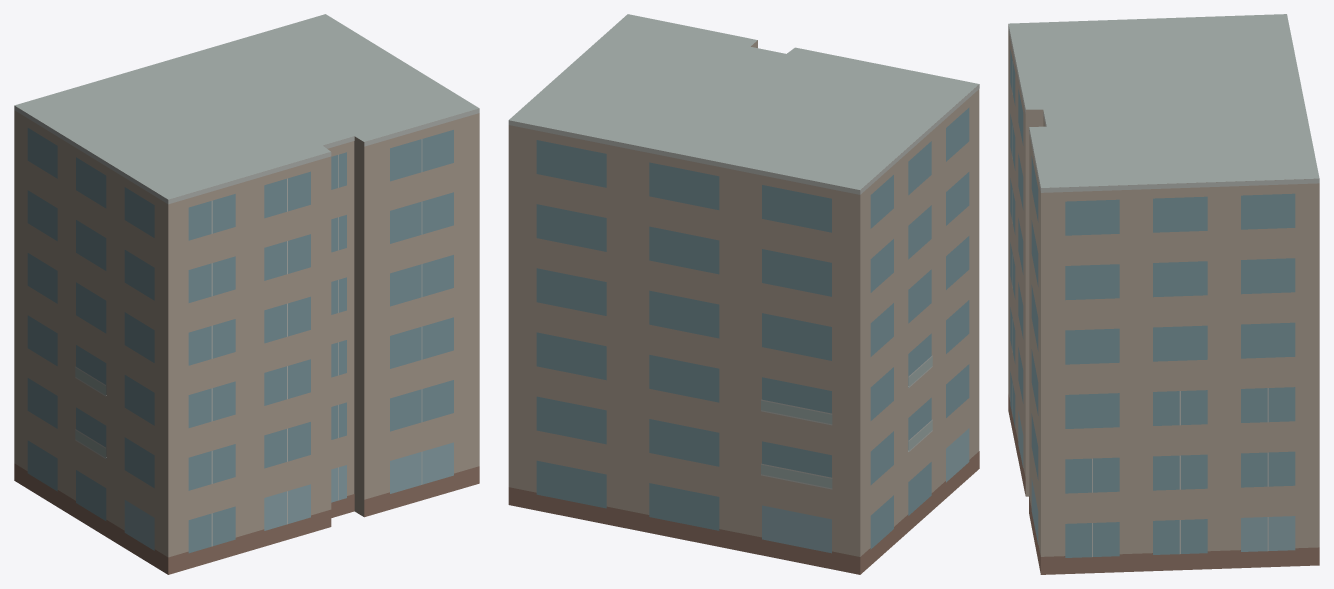
File: survey-upis-33038357.glb
The picture shows the model from 3 angles, left to right: view 1: azimuth 30°, elevation 25°; view 2: azimuth 150°, elevation 25°; view 3: azimuth 270°, elevation 25°; orthographic projection. The views are drawn at different scales.
Visible parts, largest first — view 1: survey-upis-33038357.tmp; view 2: survey-upis-33038357.tmp; view 3: survey-upis-33038357.tmp.
Boxes of the visible parts, <box> form: survey-upis-33038357.tmp: <box>14,14,479,574</box>; survey-upis-33038357.tmp: <box>508,14,979,574</box>; survey-upis-33038357.tmp: <box>1008,14,1319,574</box>.
Size of the model in its own units: 18.93 by 19.6 by 14.3.
